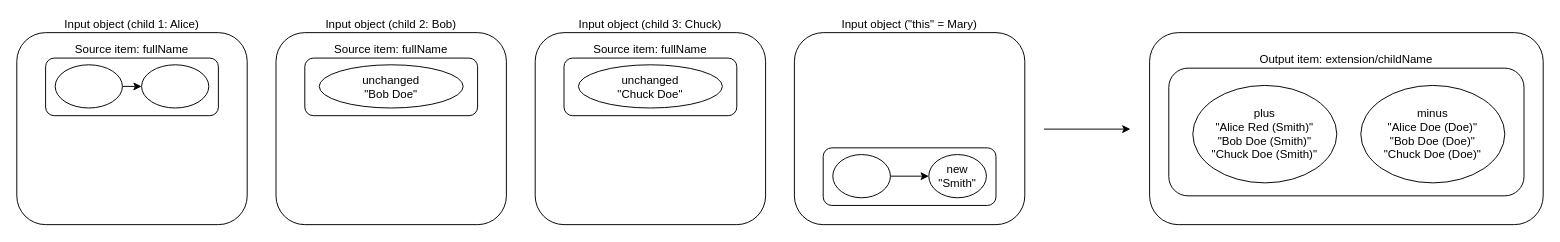
Image size: 1560x242. Some labels were removed from this diagram. Each missing label, with the box of its shape:
new "Alice Red": (141, 64, 209, 108)
old "Alice Doe": (54, 64, 122, 108)
old "Doe": (832, 154, 890, 198)
Output object: (1149, 32, 1543, 225)
Source item: familyName: (822, 147, 996, 205)
